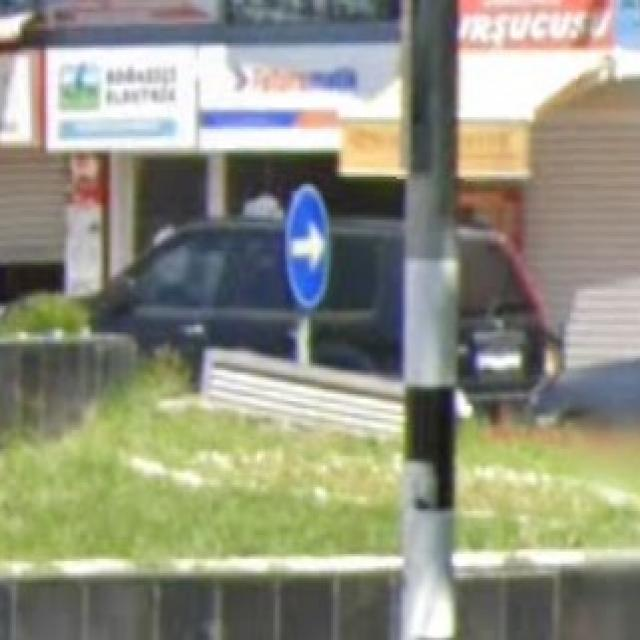Turn Right: (275, 186, 331, 306)
